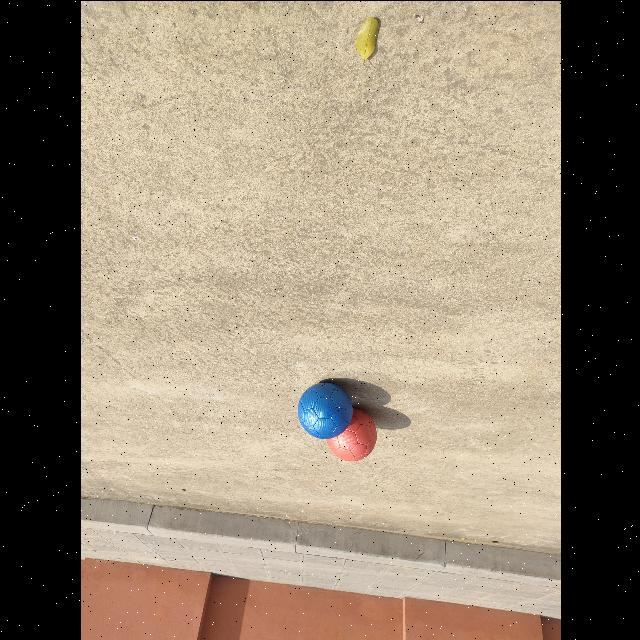B: (297, 381, 352, 439)
R: (326, 409, 376, 460)
